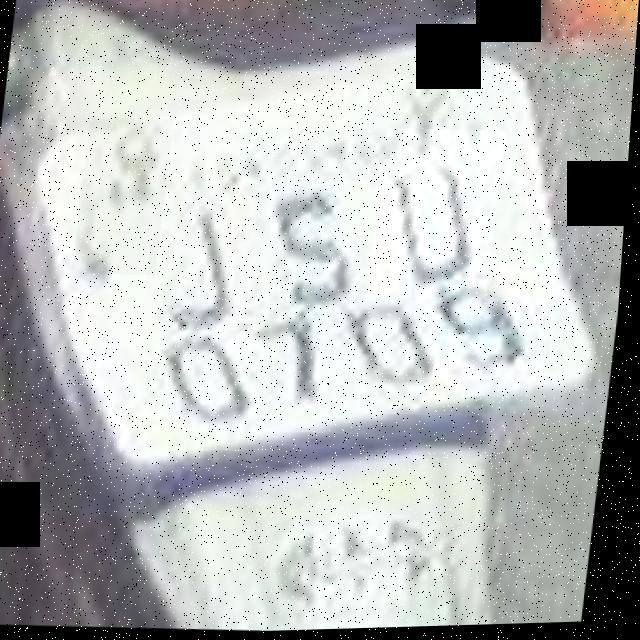0: (154, 314, 279, 438)
9: (412, 260, 560, 390)
J: (145, 181, 273, 338)
P: (75, 116, 176, 278)
U: (372, 128, 510, 305)
